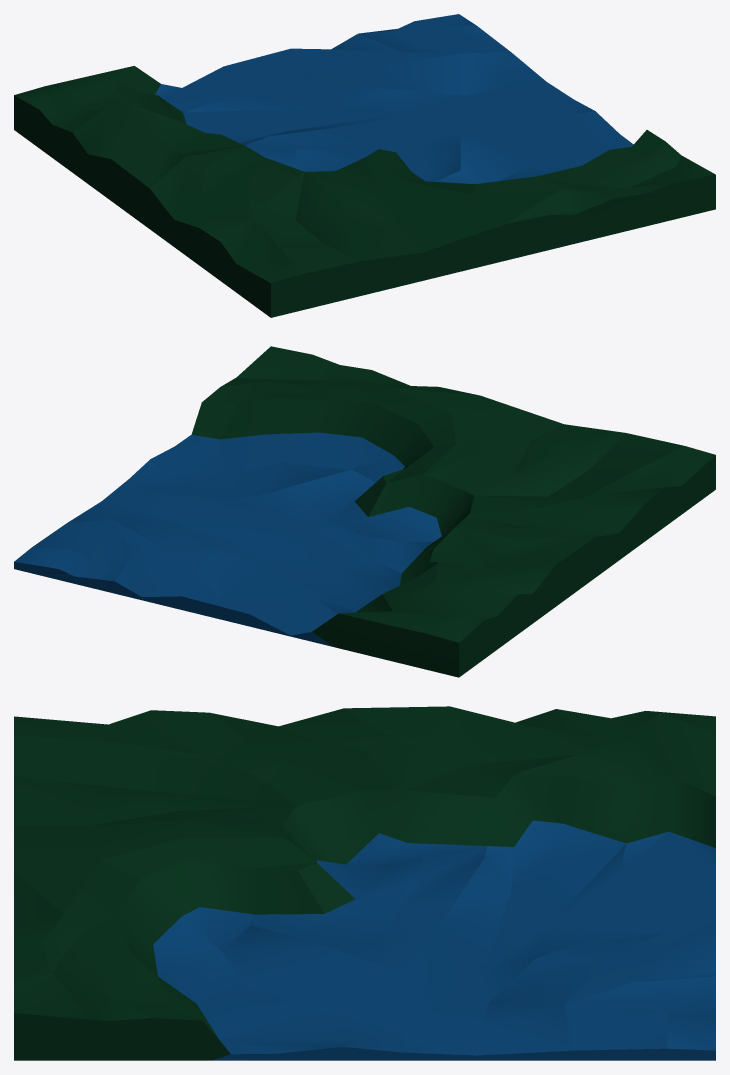
The model's file is Water_Round_LB.fbx.
3 renders of one model, top to bottom at view 1: azimuth 30°, elevation 25°; view 2: azimuth 150°, elevation 25°; view 3: azimuth 270°, elevation 25°, orthographic. The views are drawn at different scales.
Visible parts, largest first — view 1: Water_Round_LB; view 2: Water_Round_LB; view 3: Water_Round_LB.
Part boxes in pixels (x1=…): Water_Round_LB: x1=14, y1=14, x2=715, y2=317; Water_Round_LB: x1=14, y1=346, x2=715, y2=677; Water_Round_LB: x1=14, y1=706, x2=715, y2=1060.
Size of the model in its own units: 147 by 14.26 by 147.
